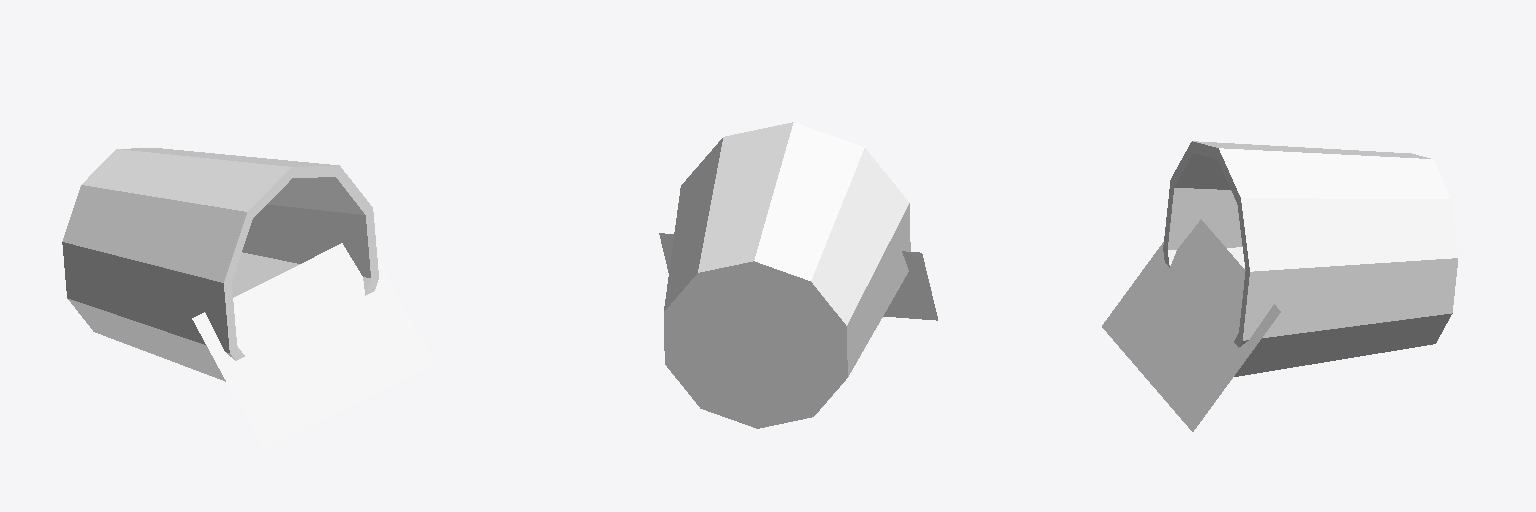
The model's file is metal_bucket_3.obj.
3 views of the same model, side by side, from view 1: azimuth 30°, elevation 25°; view 2: azimuth 150°, elevation 25°; view 3: azimuth 270°, elevation 25° (orthographic).
Parts seen in each view (by area): view 1: bucket, bucket_handle; view 2: bucket, bucket_handle; view 3: bucket, bucket_handle.
Boxes of the visible parts, box(x1,y1,x2,y2) form: bucket: box(62, 148, 378, 381); bucket_handle: box(192, 243, 435, 450); bucket: box(664, 122, 910, 428); bucket_handle: box(659, 233, 937, 320); bucket: box(1163, 141, 1457, 376); bucket_handle: box(1102, 219, 1280, 431).
Bounding box in the file's own units: 0.8463 × 0.6541 × 0.9603.